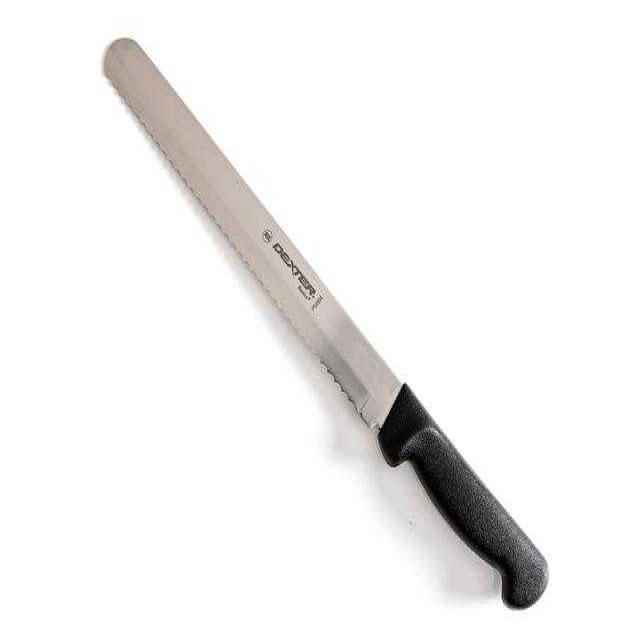weapon: (95, 36, 572, 628)
